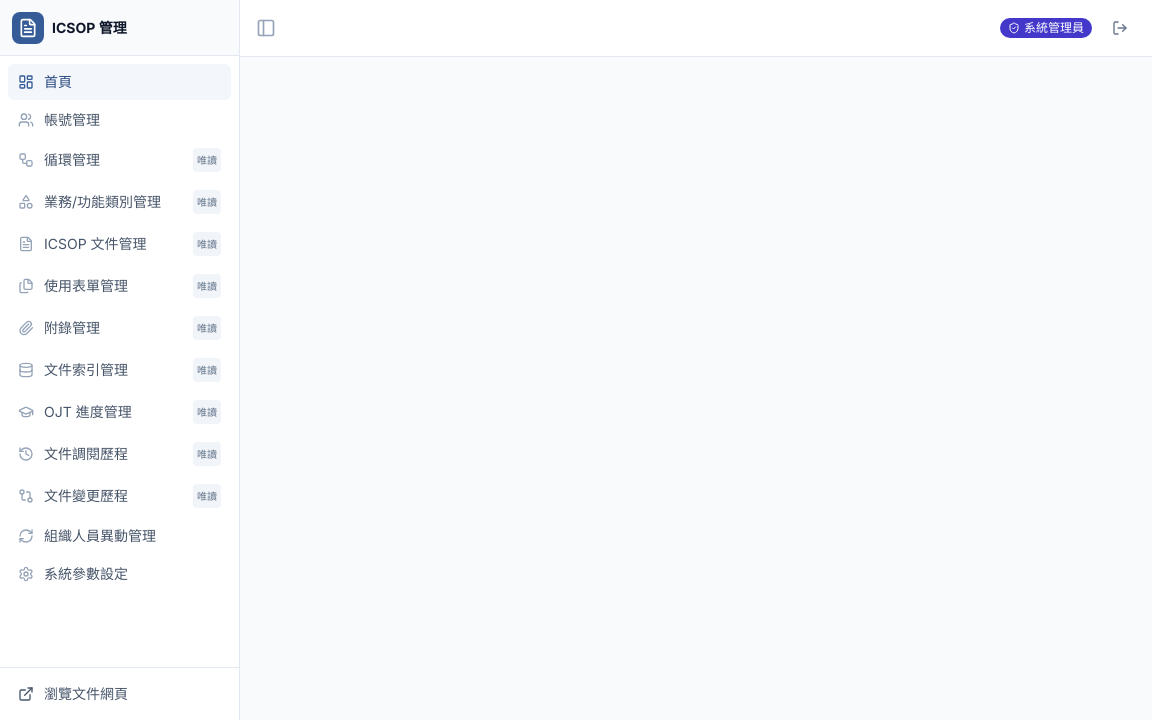
Test case: AppShell — 瀏覽文件網頁入口以新視窗開啟（F022） › TS-F022-004 window.open 回傳 null（被封鎖）→ 顯示替代提示
The image size is (1152, 720).
What coordinates should you click on to do the following:
click the button "瀏覽文件網頁"
I would click on:
 (120, 694)
Its box is [8,676,231,712].
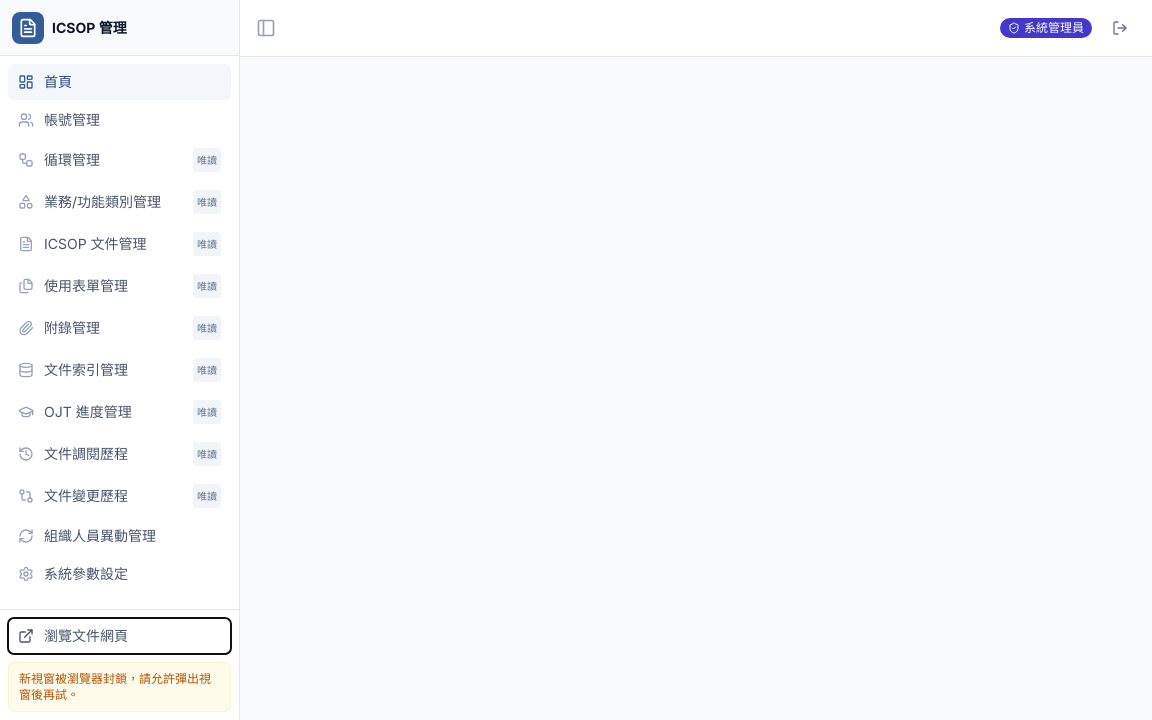
Check: the message shows "請允許彈出視窗", box [19,671,211,702]
